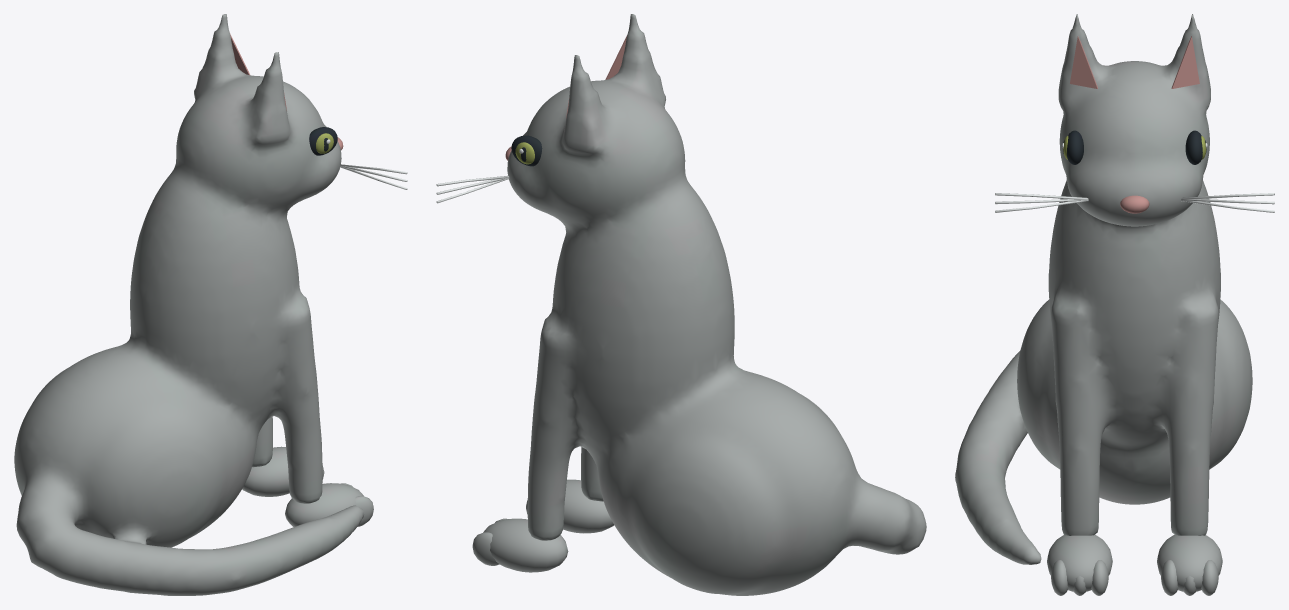
Rendered from nature-cat-sitting.glb.
The picture shows the model from 3 angles, left to right: view 1: azimuth 30°, elevation 25°; view 2: azimuth 150°, elevation 25°; view 3: azimuth 270°, elevation 25°; orthographic projection. The views are drawn at different scales.
Visible parts, largest first — view 1: Continuous anatomical skin, Rounded paw, Rounded paw.001; view 2: Continuous anatomical skin, Rounded paw.001, Rounded paw; view 3: Continuous anatomical skin, Rounded paw, Rounded paw.001, Pink inner pinna fitted to skin, Pink inner pinna fitted to skin.001, Dark eye socket.001, Toe.002, Toe.005, Dark eye socket, Toe, Toe.003, Pink cat nose.
Part boxes in pixels (<box>): Continuous anatomical skin: <box>14,14,364,595</box>; Rounded paw: <box>285,483,363,526</box>; Rounded paw.001: <box>242,446,289,496</box>; Continuous anatomical skin: <box>507,14,926,595</box>; Rounded paw.001: <box>483,518,568,572</box>; Rounded paw: <box>563,479,613,533</box>; Continuous anatomical skin: <box>955,14,1252,564</box>; Rounded paw: <box>1047,534,1112,591</box>; Rounded paw.001: <box>1157,534,1222,591</box>; Pink inner pinna fitted to skin: <box>1070,36,1097,88</box>; Pink inner pinna fitted to skin.001: <box>1171,36,1199,88</box>; Dark eye socket.001: <box>1185,130,1202,164</box>; Toe.002: <box>1091,560,1108,595</box>; Toe.005: <box>1201,560,1218,595</box>; Dark eye socket: <box>1067,130,1083,164</box>; Toe: <box>1051,560,1068,595</box>; Toe.003: <box>1161,560,1178,595</box>; Pink cat nose: <box>1120,195,1149,213</box>.
Size of the model in its own units: 0.3153 by 0.42 by 0.2242.
5 materials, 5 textured.
